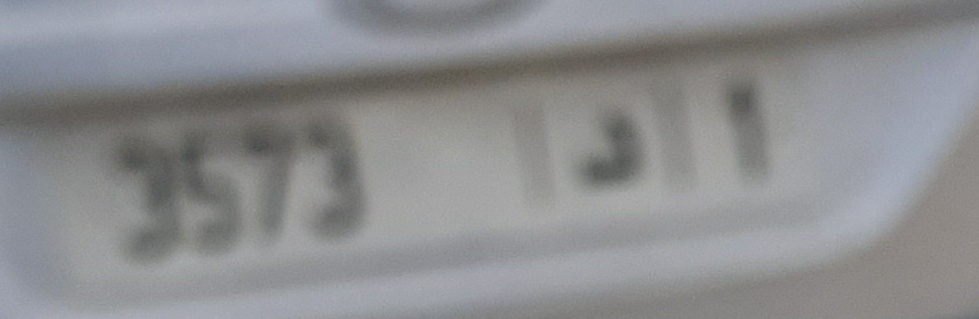1: (710, 70, 800, 194)
3: (108, 139, 180, 272), (305, 105, 365, 239)
5: (185, 129, 240, 256)
7: (244, 122, 300, 237)
d: (566, 100, 653, 190)
